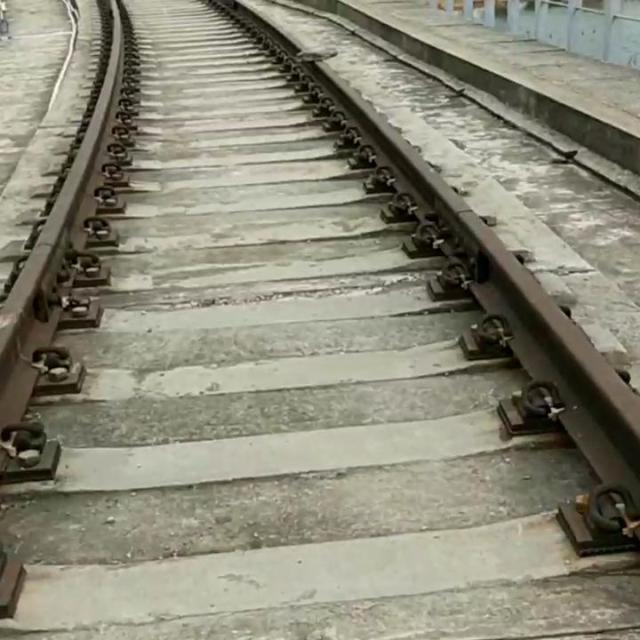danger: (289, 40, 344, 82)
rail: (305, 65, 640, 514), (0, 0, 122, 426), (221, 0, 306, 57)
